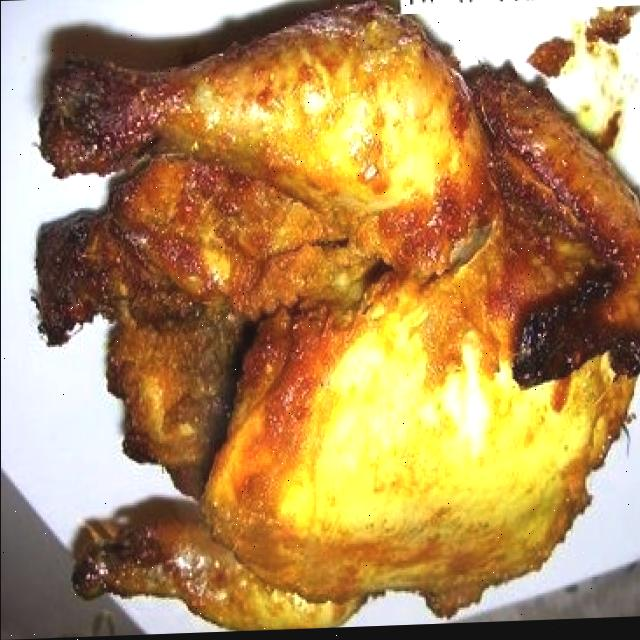鸡肉料理 含炸鸡: (29, 12, 640, 639)
